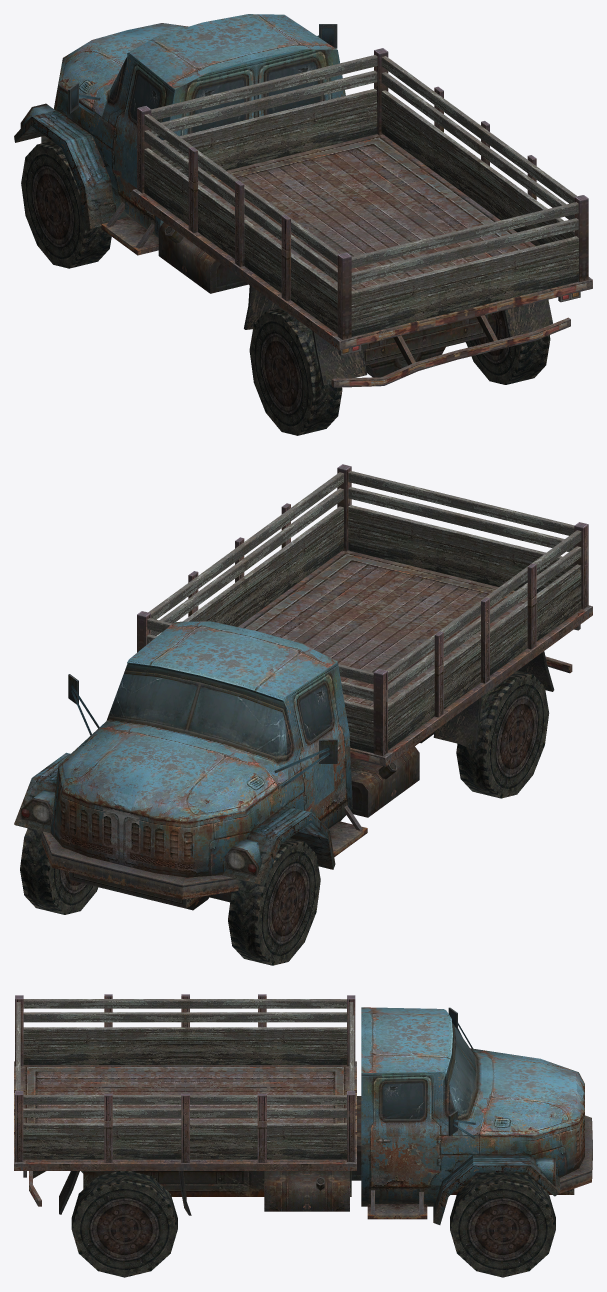
File: Cover_Lorry05.glb
3 views of the same model, one above another, from view 1: azimuth 30°, elevation 25°; view 2: azimuth 150°, elevation 25°; view 3: azimuth 270°, elevation 25° (orthographic). The views are drawn at different scales.
Visible parts, largest first — view 1: common_lorry_05; view 2: common_lorry_05; view 3: common_lorry_05.
Boxes of the visible parts, <box> form: common_lorry_05: <box>14,14,592,435</box>; common_lorry_05: <box>14,464,592,965</box>; common_lorry_05: <box>14,994,592,1277</box>.
Size of the model in its own units: 4.96 by 4.22 by 11.17.
Materials: 1 (1 with a texture image).
